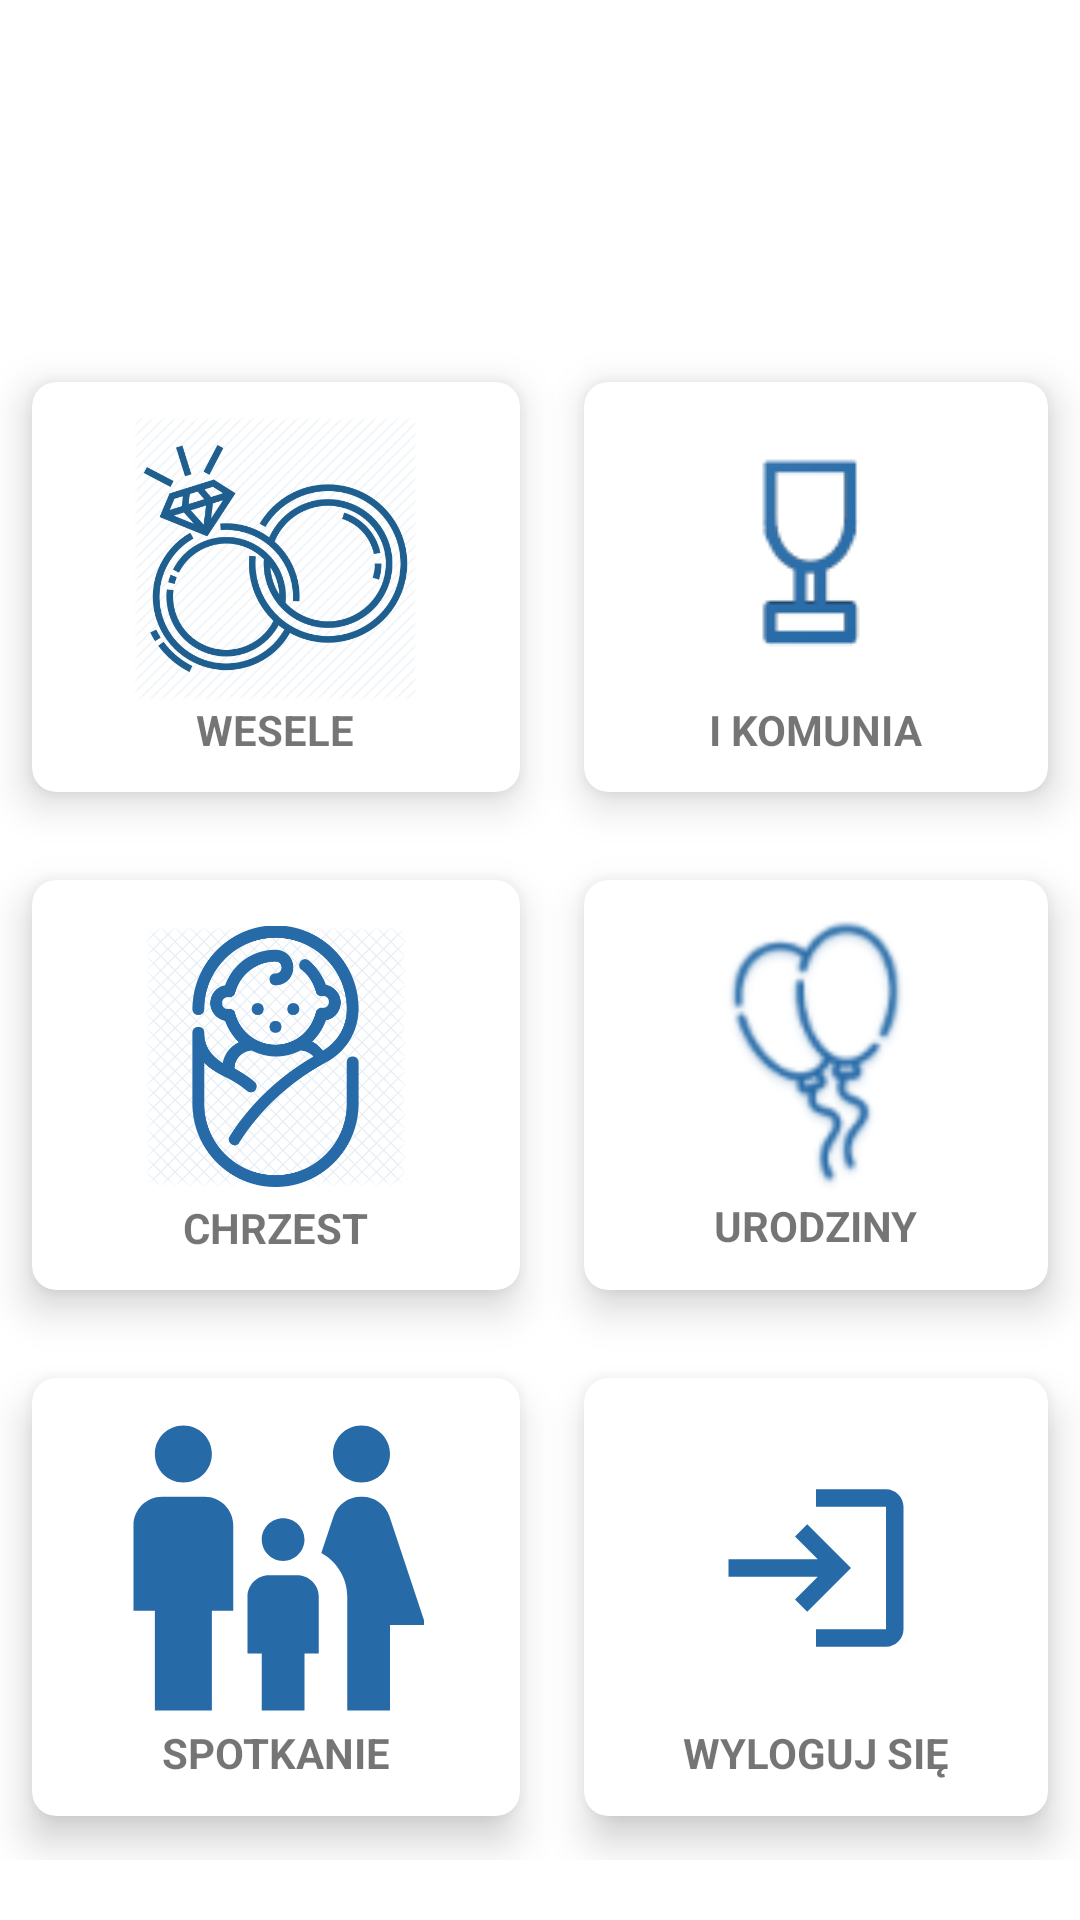

Locate icon controls on the screen. Image size 1080*1920, boxes as (x1, y1, x2, y2).
baaloonn: (731, 922, 901, 1183)
baby: (158, 926, 394, 1187)
family restroom: (133, 1425, 424, 1711)
login: (728, 1489, 904, 1647)
wedding rings: (143, 445, 408, 672)
